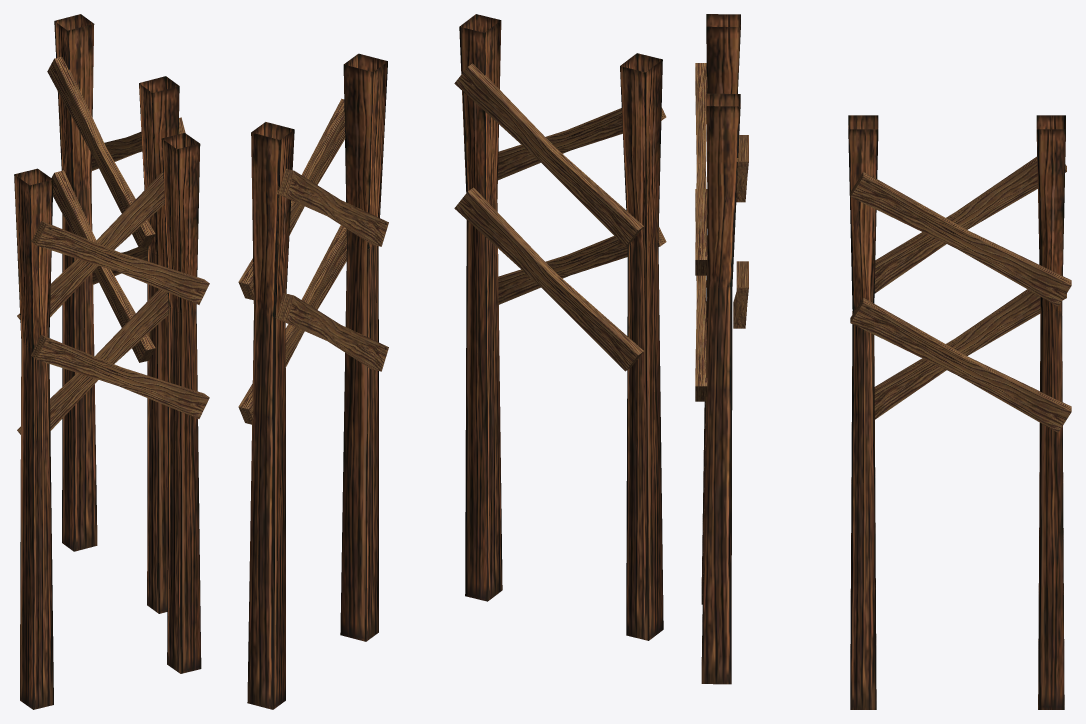
File: LAKETOWN_WAREHOUSE2_PS_WH2_BIG_PLATPOSTS664__GX.fbx
The picture shows the model from 3 angles, left to right: view 1: azimuth 30°, elevation 25°; view 2: azimuth 150°, elevation 25°; view 3: azimuth 270°, elevation 25°; orthographic projection. The views are drawn at different scales.
Visible parts, largest first — view 1: LAKETOWN_WAREHOUSE2_PS_WH2_BIG_PLATPOSTS664__GX; view 2: LAKETOWN_WAREHOUSE2_PS_WH2_BIG_PLATPOSTS664__GX; view 3: LAKETOWN_WAREHOUSE2_PS_WH2_BIG_PLATPOSTS664__GX.
Boxes of the visible parts, x1,y1,x2,y2 form: LAKETOWN_WAREHOUSE2_PS_WH2_BIG_PLATPOSTS664__GX: [14, 14, 209, 709]; LAKETOWN_WAREHOUSE2_PS_WH2_BIG_PLATPOSTS664__GX: [238, 14, 666, 709]; LAKETOWN_WAREHOUSE2_PS_WH2_BIG_PLATPOSTS664__GX: [695, 14, 1071, 709].
Size of the model in its own units: 36521 by 82052 by 48354.
2 materials, 2 textured.
